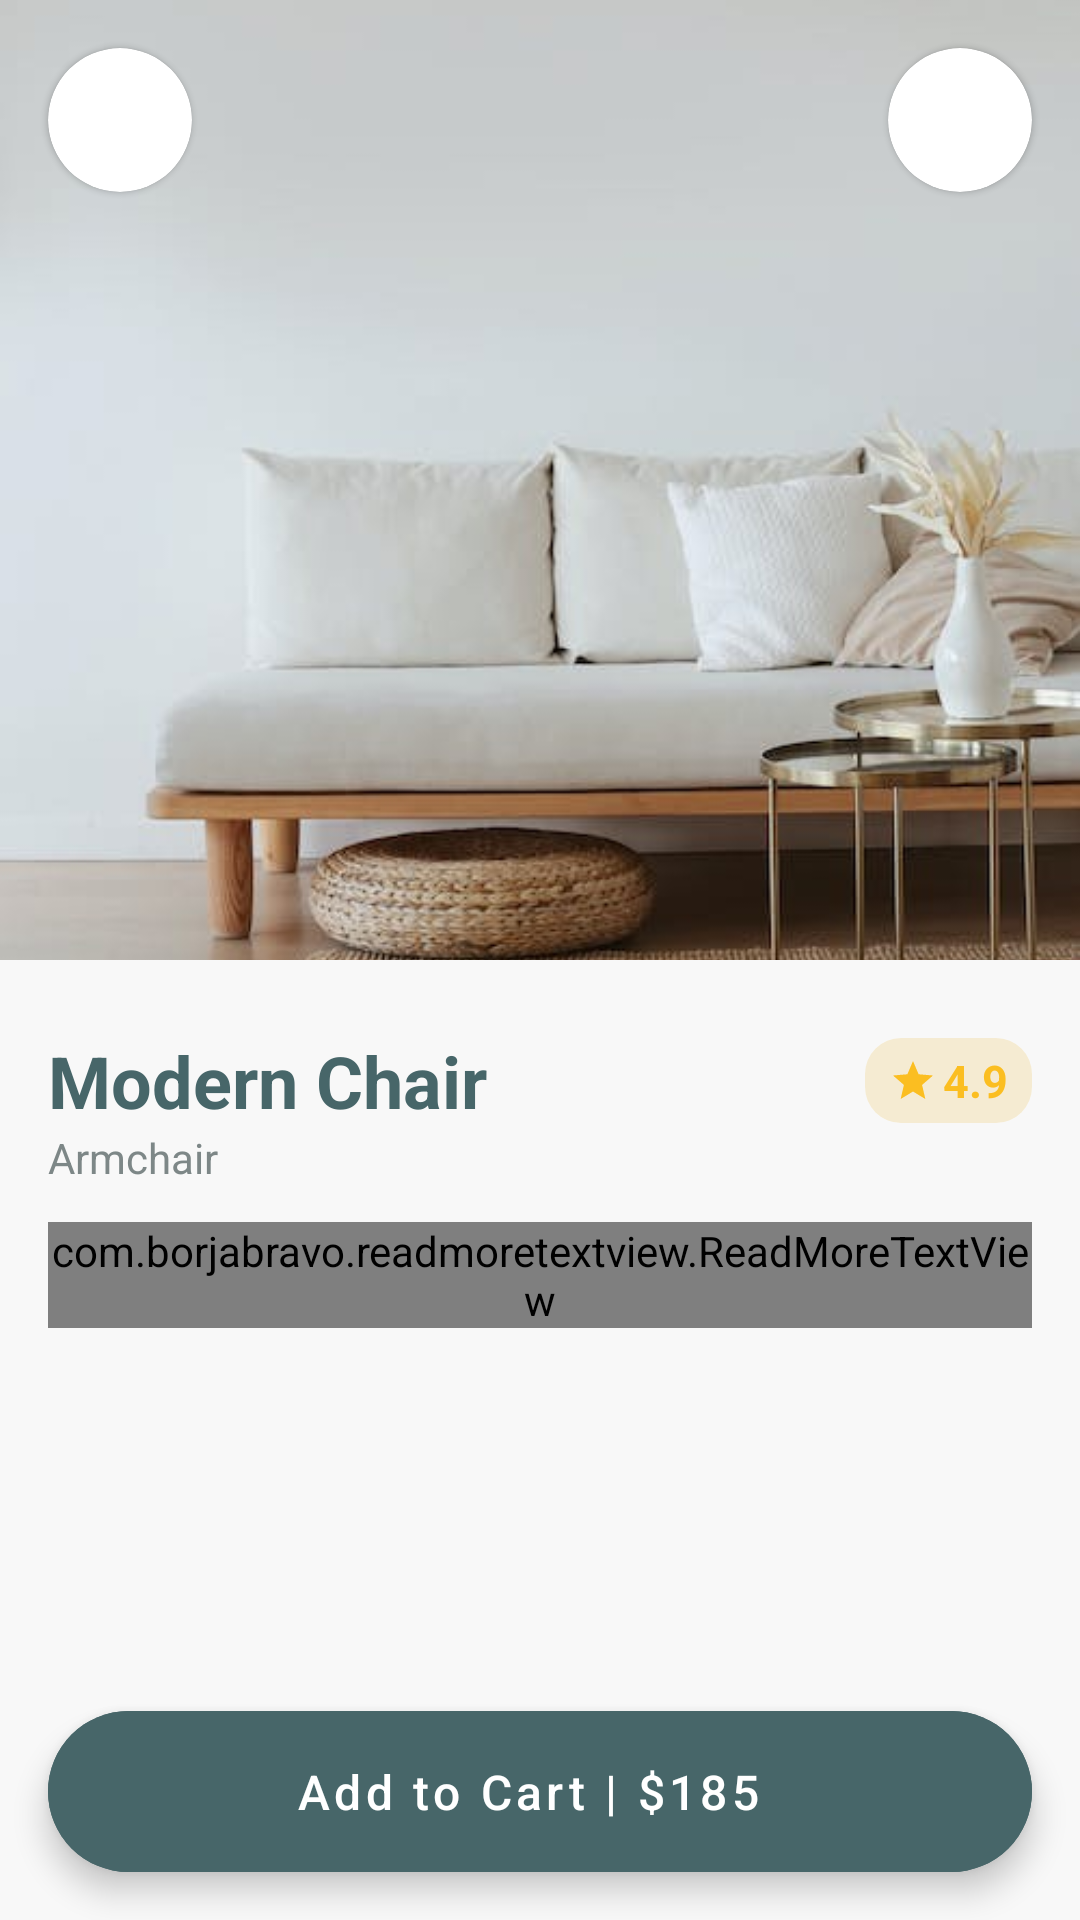

Icons on this 1080*1920 Android screen, each with its box as (x1, y1, x2, y2):
Furniture rate: (893, 1061, 933, 1099)
